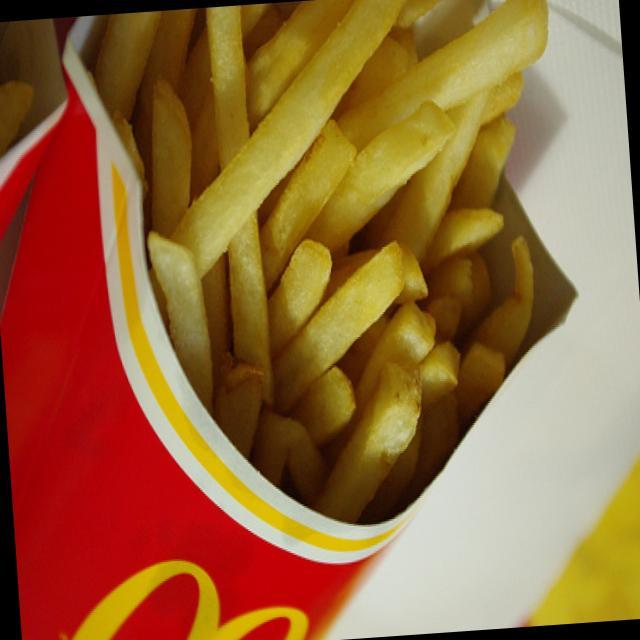French Fries: (147, 0, 566, 530)
